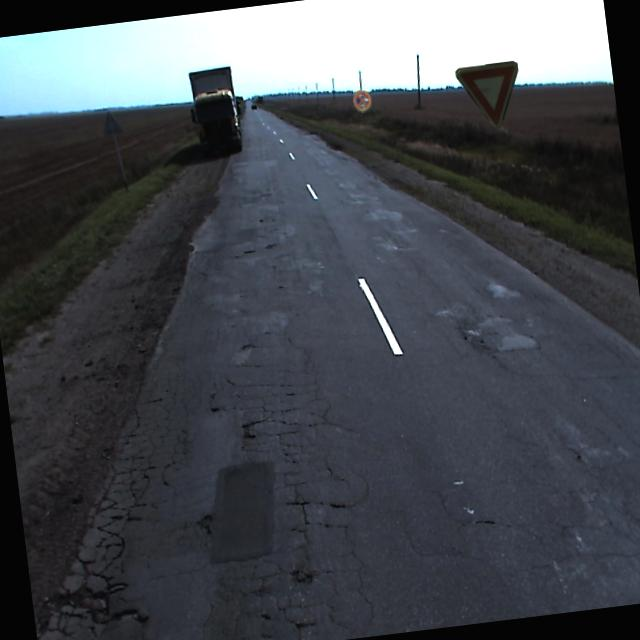road: (34, 100, 640, 640)
